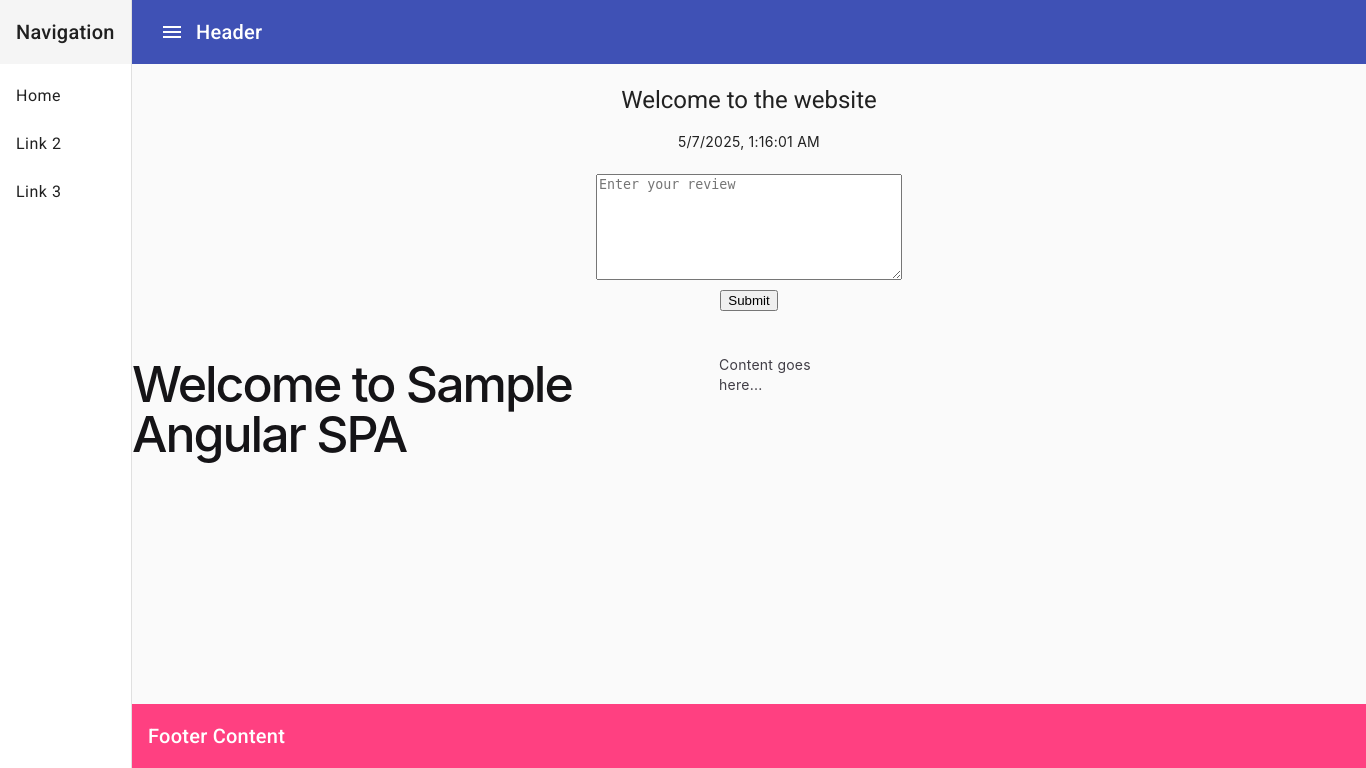
Scenario: Home Page Review Submission › should record review and show success message on submission
This screenshot has width=1366, height=768.
# Enter review in the text box
In the text box with placeholder "Enter your review": [749, 227] box [596,174,902,280], type "This is a sample review."
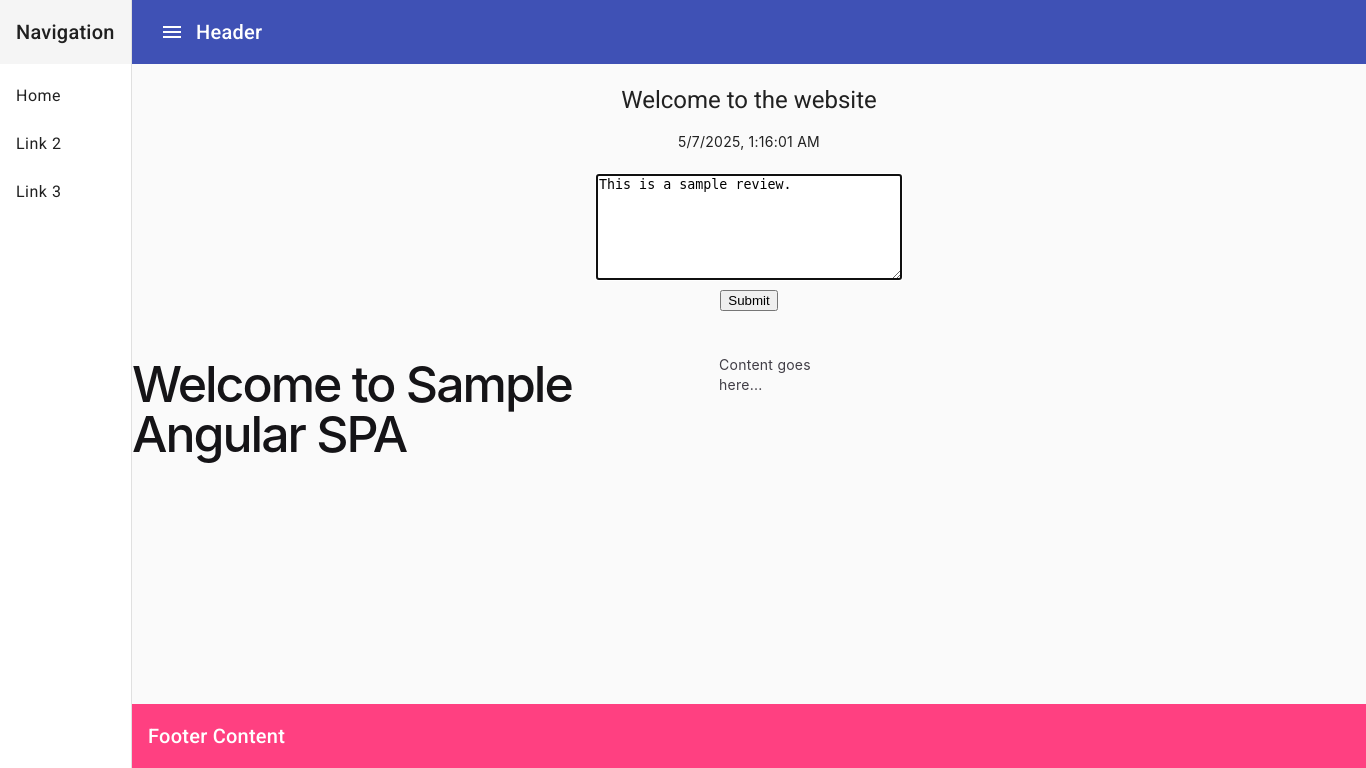
# Click the submit button
Click the button "Submit": [749, 301] box [720,290,778,311]
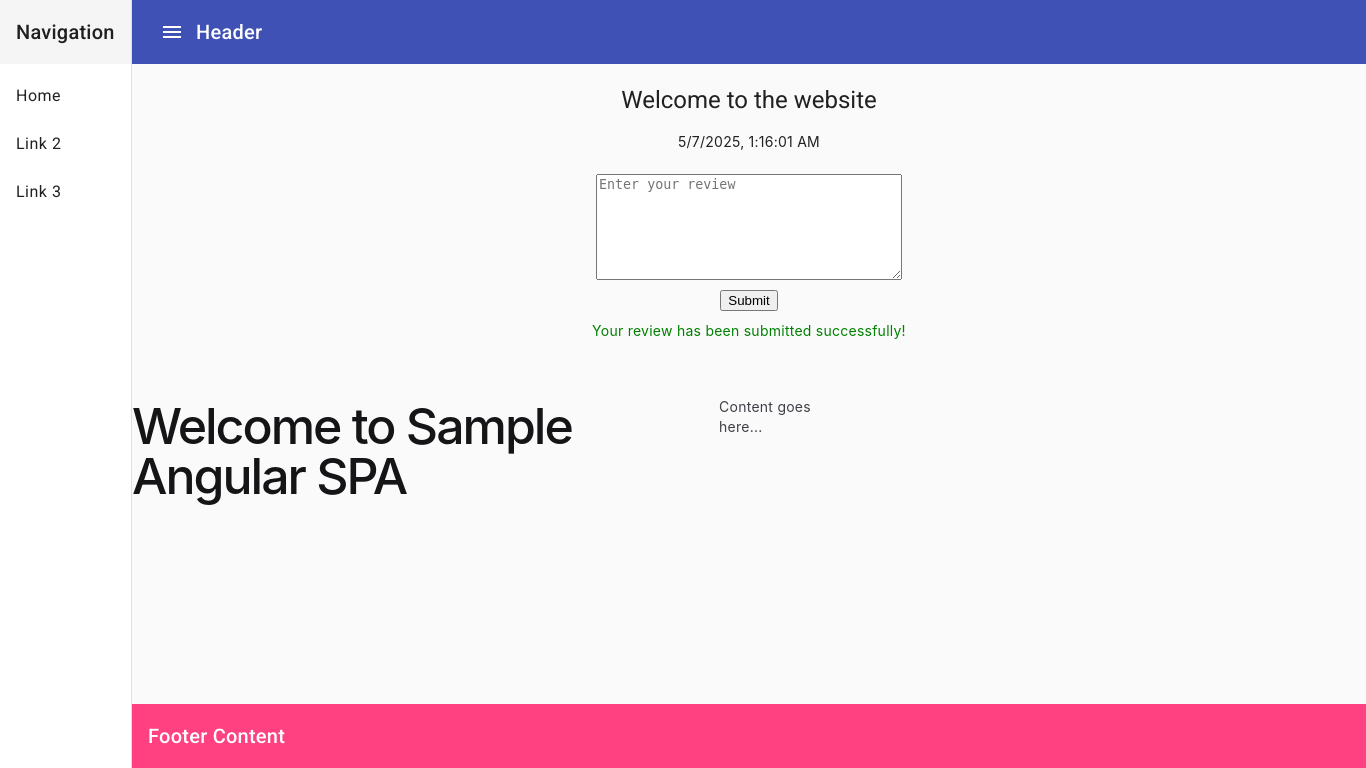
Result: the text "Your review has been submitted successfully!" is shown at [592,321,906,341]
